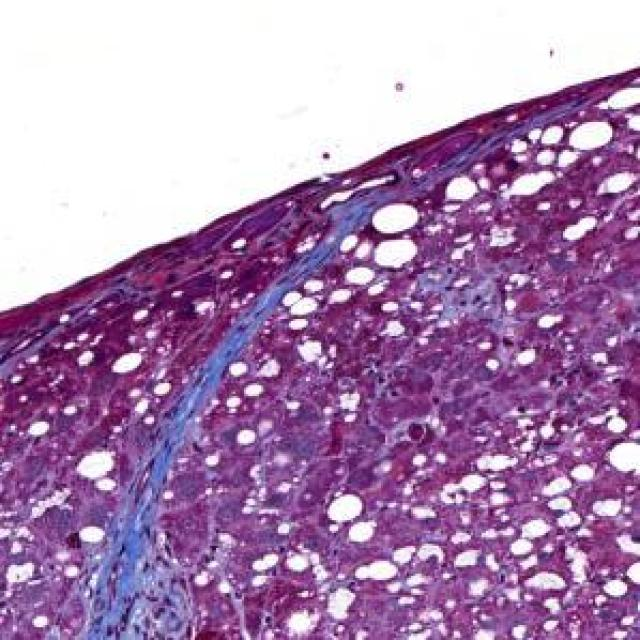fibrosis: (107, 520, 203, 640)
